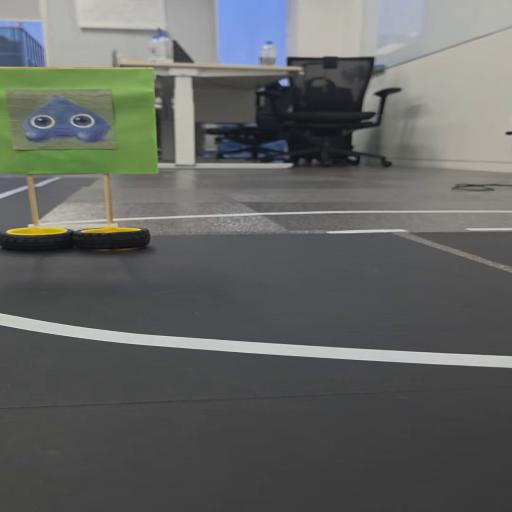Sign_B: (0, 63, 166, 262)
